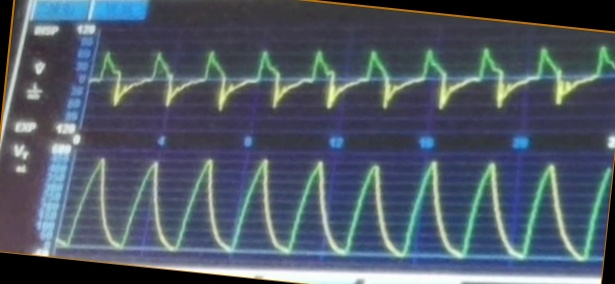Accumulation Flow: (100, 34, 613, 128)
Volume: (77, 151, 602, 260)
